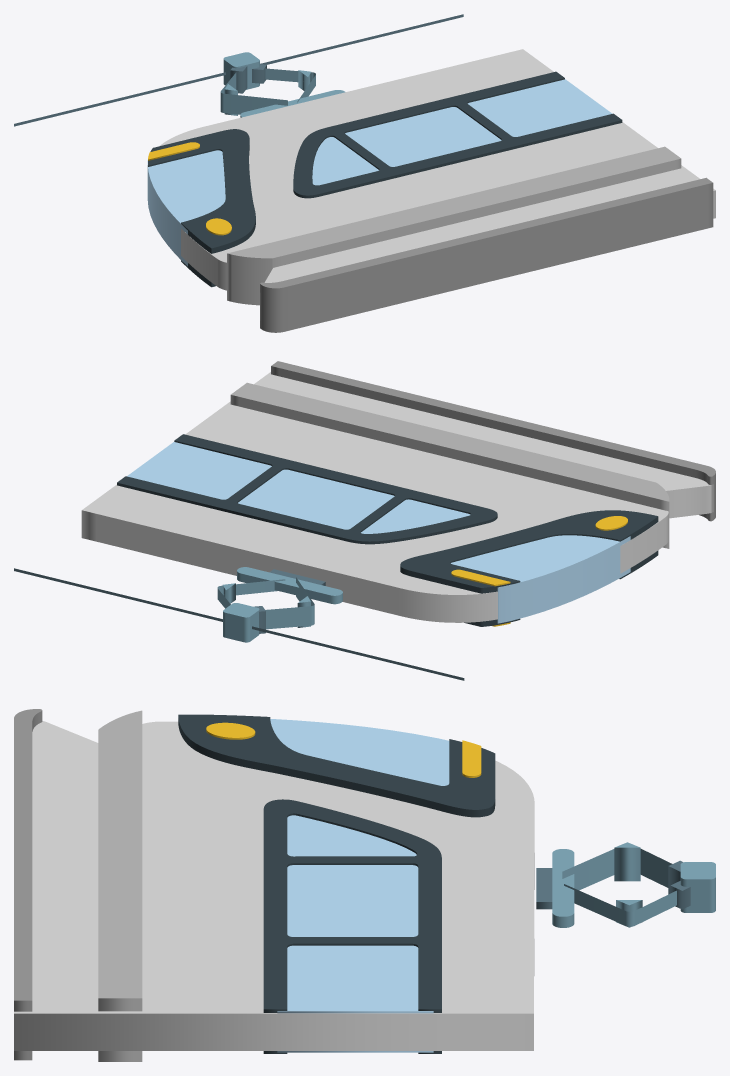
The model's file is emoji_u1f688.glb.
3 views of the same model, one above another, from view 1: azimuth 30°, elevation 25°; view 2: azimuth 150°, elevation 25°; view 3: azimuth 270°, elevation 25° (orthographic). The views are drawn at different scales.
Parts seen in each view (by area): view 1: emoji_u1f688; view 2: emoji_u1f688; view 3: emoji_u1f688.
Boxes of the visible parts, <box> form: emoji_u1f688: <box>14,14,715,332</box>; emoji_u1f688: <box>14,361,715,680</box>; emoji_u1f688: <box>14,709,715,1061</box>.
Size of the model in its own units: 0.0339 by 0.0034 by 0.034.
